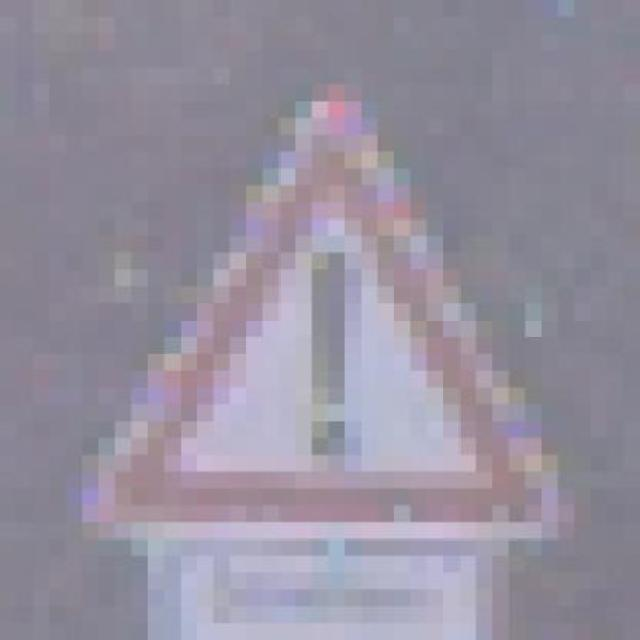Attention Please-: (82, 84, 575, 556)
